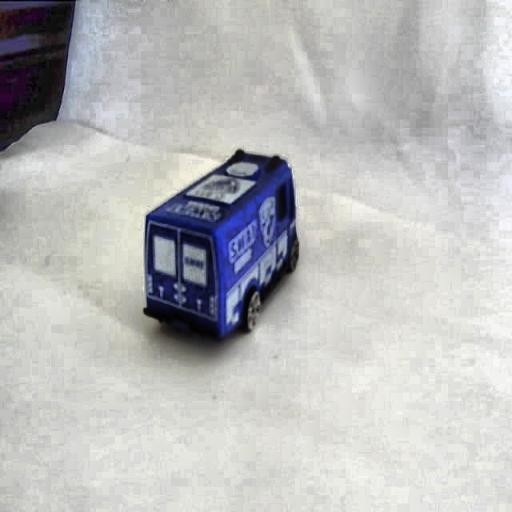police car: (140, 147, 303, 351)
